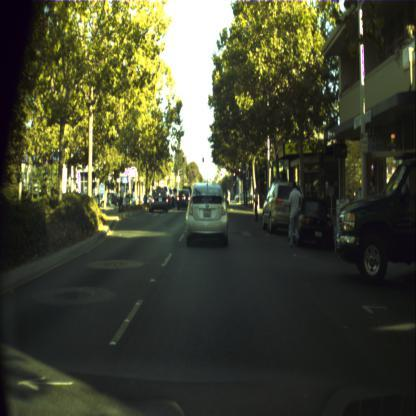Red: (233, 172, 236, 180), (182, 154, 184, 162), (238, 167, 240, 175), (202, 156, 204, 161)
